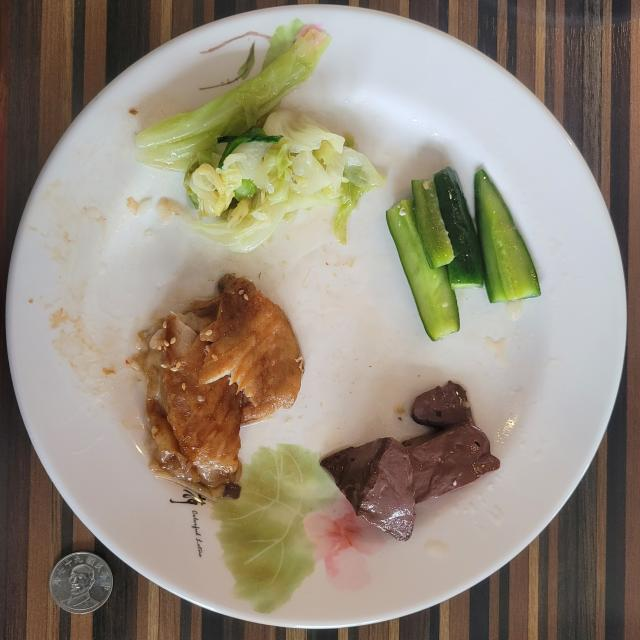Kabayaki sea bream fillet: (144, 275, 301, 498)
cabbage: (136, 20, 385, 252)
coin: (50, 552, 112, 614)
cucumber: (386, 168, 540, 340)
pig blood curd: (320, 381, 500, 541)
